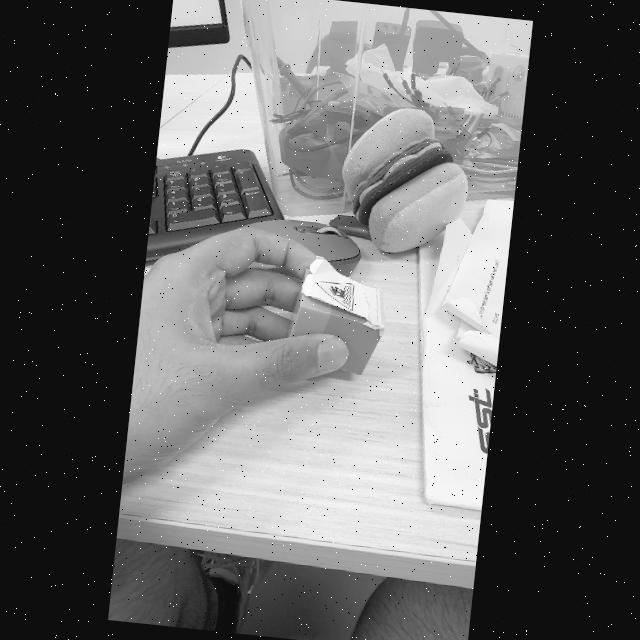Tsunami: (316, 281, 353, 310)
